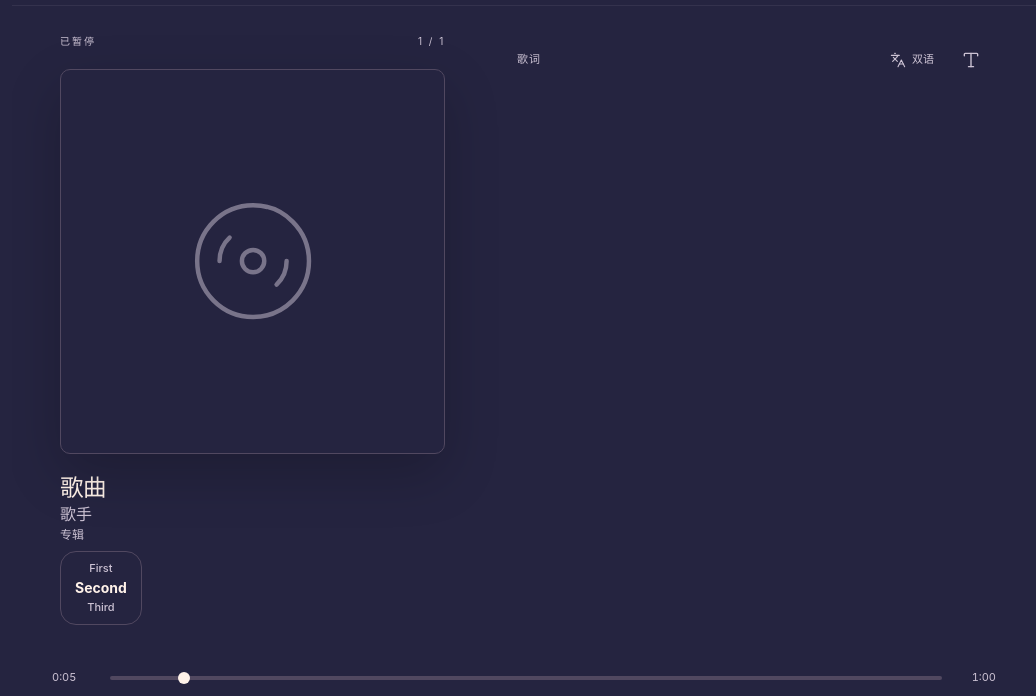
Test: 安卓从封面下的当前句进入大歌词页，返回保留播放位置与偏好
Later steps or results of the test are not shown.
(page scrolled)
Expected: the text "Second" is shown, [75,578,127,598]
Click the button with aria-label "展开歌词" at coordinates (101, 588), box [60,551,142,626]
(page scrolled)
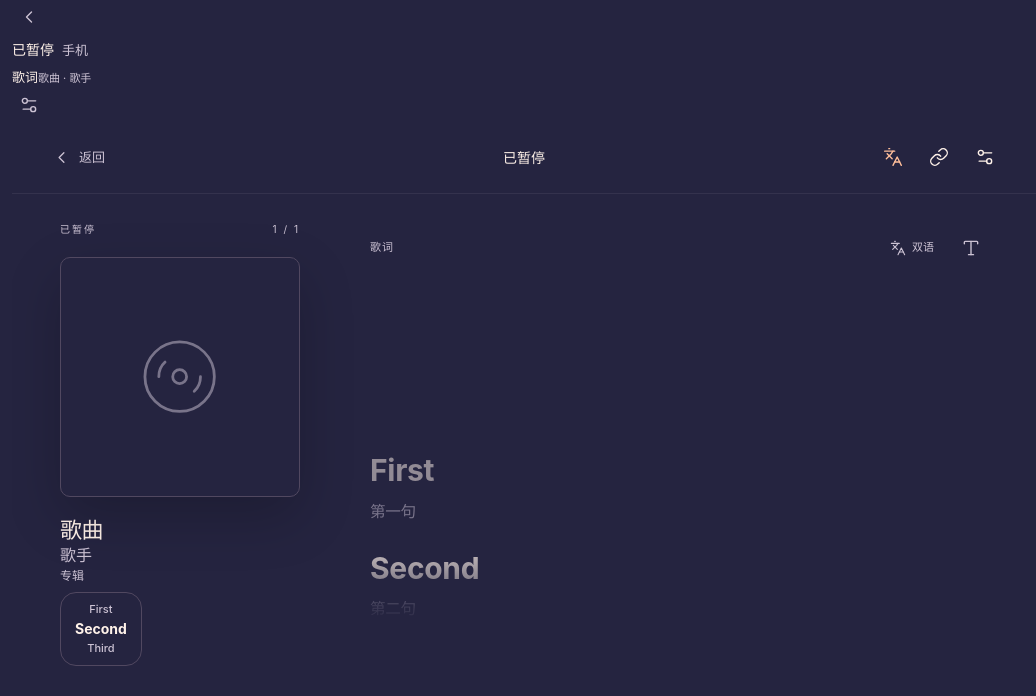
Expected: the button with class "lyric-line" shows "Second", [370,547,976,622]
Click the 1st button named "返回封面" at coordinates (29, 17), box [12,0,46,34]
(page scrolled)
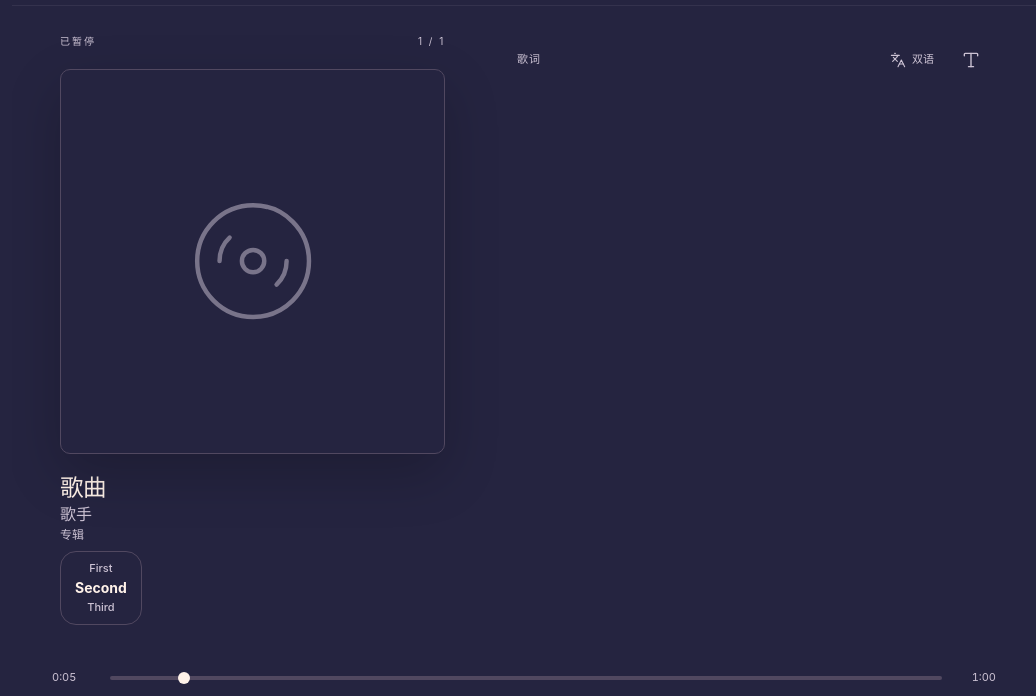
Expected: the text "Second" is shown, [75,578,127,598]
Expected: the element with class "listening-lyrics" has attribute inert, [517,42,988,78]
